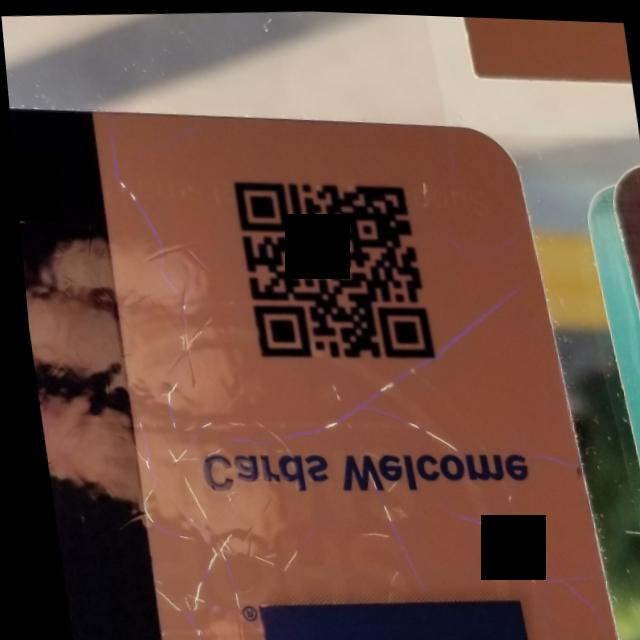QR_CODE: (209, 163, 444, 394)
